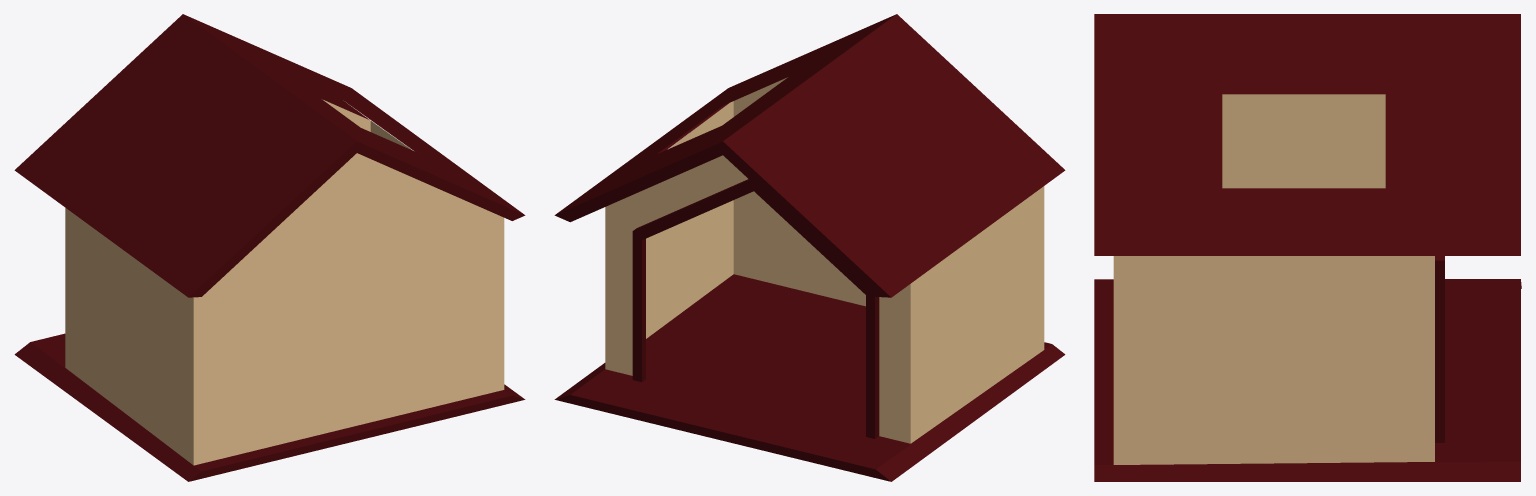
Rendered from house.fbx.
3 views of the same model, side by side, from view 1: azimuth 30°, elevation 25°; view 2: azimuth 150°, elevation 25°; view 3: azimuth 270°, elevation 25° (orthographic). The views are drawn at different scales.
Visible parts, largest first — view 1: Cube.007; view 2: Cube.007; view 3: Cube.007.
Boxes of the visible parts, x1,y1,x2,y2 form: Cube.007: [14, 14, 525, 481]; Cube.007: [554, 14, 1065, 481]; Cube.007: [1094, 14, 1521, 481].
Bounding box in the file's own units: 2063 × 1755 × 1848.
